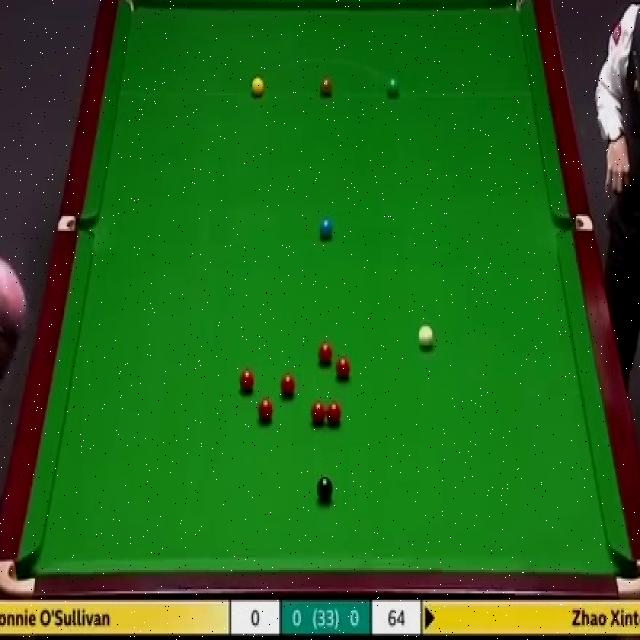black-ball: (316, 476, 334, 499)
blue-ball: (320, 218, 334, 242)
brown-ball: (319, 77, 332, 97)
green-ball: (385, 78, 400, 95)
red-ball: (257, 396, 274, 424), (326, 402, 344, 426), (318, 340, 333, 368), (240, 367, 256, 392), (309, 402, 326, 424), (336, 356, 351, 380), (280, 374, 295, 397)
white-ball: (418, 324, 435, 350)
yellow-ball: (250, 76, 264, 97)
